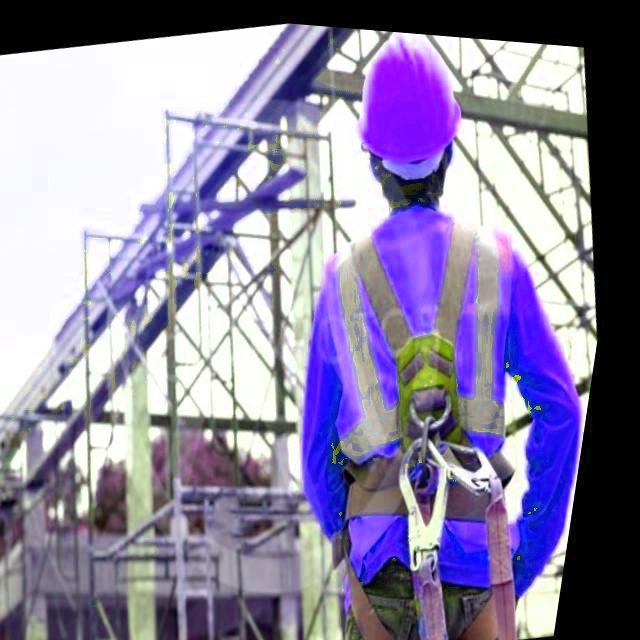safety belt: (322, 229, 540, 555)
